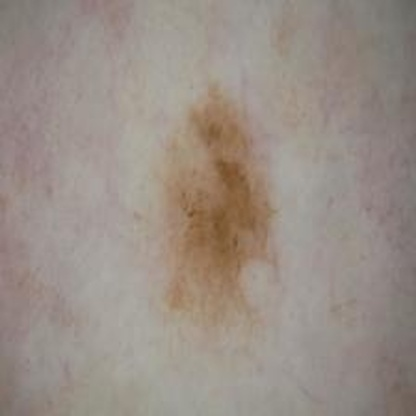malignant: (177, 89, 265, 316)
